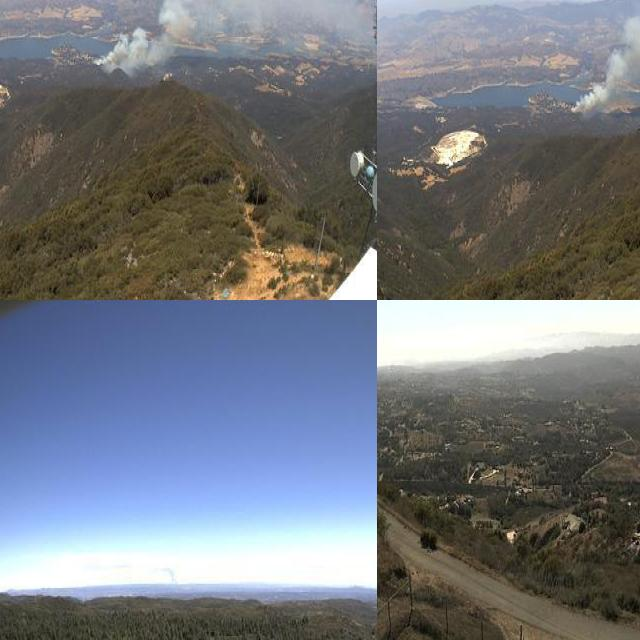smoke: (88, 0, 362, 75), (566, 0, 640, 115), (158, 565, 180, 584)
